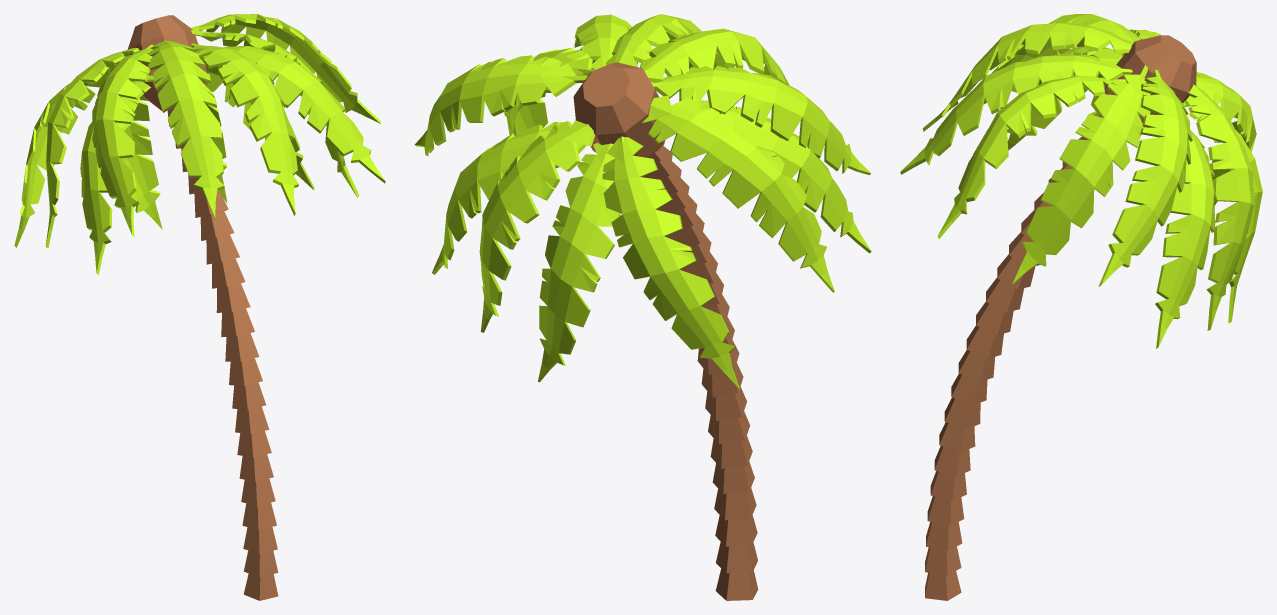
File: palme2.fbx
The picture shows the model from 3 angles, left to right: view 1: azimuth 30°, elevation 25°; view 2: azimuth 150°, elevation 25°; view 3: azimuth 270°, elevation 25°; orthographic projection. The views are drawn at different scales.
Parts seen in each view (by area): view 1: Palme2; view 2: Palme2; view 3: Palme2.
Boxes of the visible parts, bbox=[...] form: Palme2: bbox=[14, 14, 385, 600]; Palme2: bbox=[414, 14, 871, 600]; Palme2: bbox=[900, 14, 1262, 600].
Bounding box in the file's own units: 3076 × 4358 × 2583.
